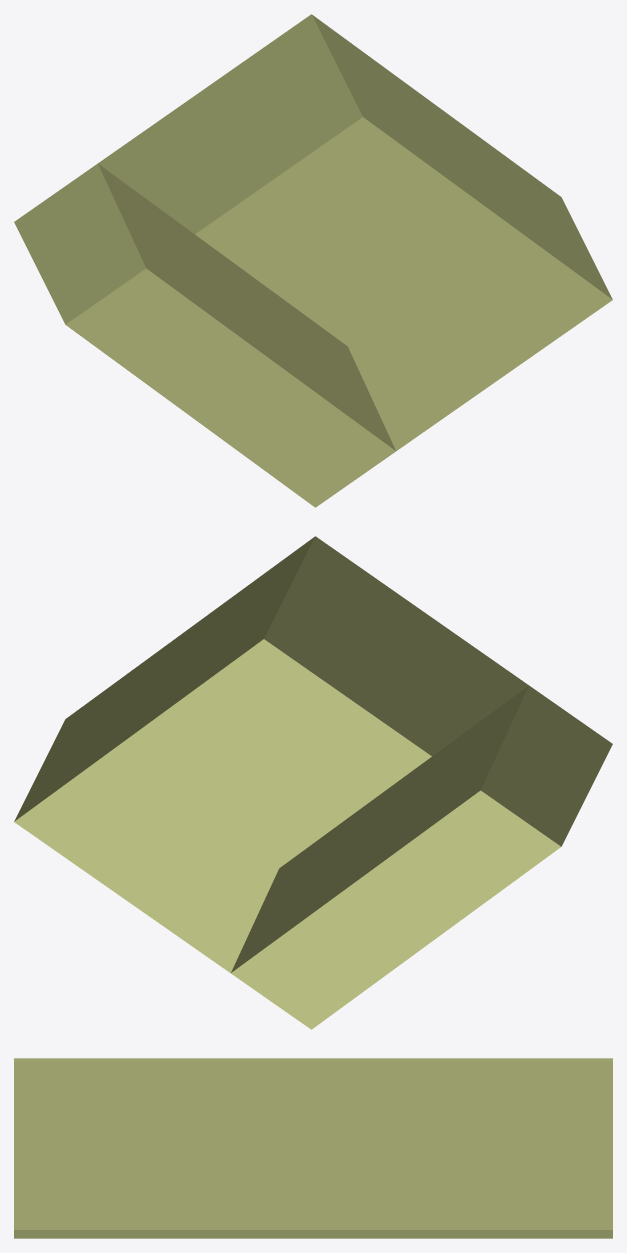
3 renders of one model, top to bottom at view 1: azimuth 30°, elevation 25°; view 2: azimuth 150°, elevation 25°; view 3: azimuth 270°, elevation 25°, orthographic. The views are drawn at different scales.
Visible parts, largest first — view 1: 0_1_1_3_2_2_3_3_3_1_1; view 2: 0_1_1_3_2_2_3_3_3_1_1; view 3: 0_1_1_3_2_2_3_3_3_1_1.
Part boxes in pixels (x1,y1,x2,y2): 0_1_1_3_2_2_3_3_3_1_1: (14, 14, 612, 507); 0_1_1_3_2_2_3_3_3_1_1: (14, 536, 612, 1029); 0_1_1_3_2_2_3_3_3_1_1: (14, 1058, 612, 1238).
Size of the model in its own units: 7.26 by 4.98 by 9.
